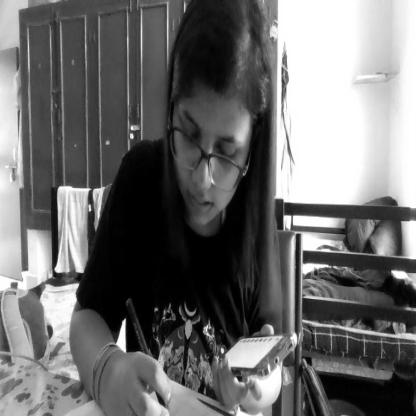Normal: (167, 0, 272, 243)
